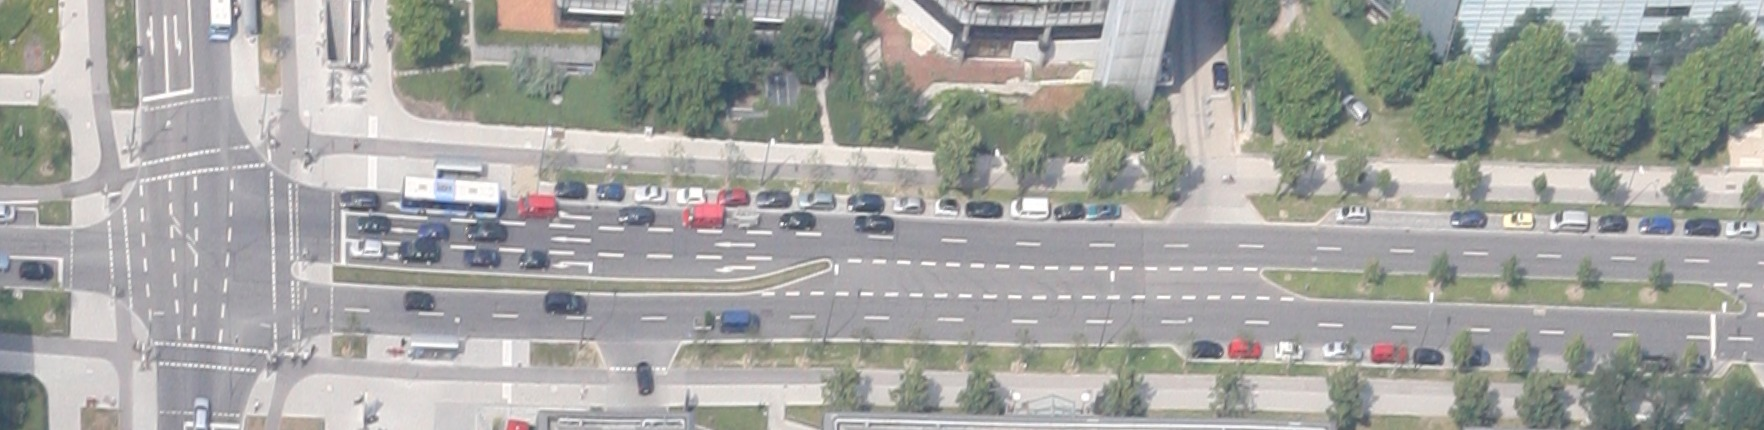car: (1338, 91, 1372, 125), (399, 239, 440, 263), (517, 194, 555, 220), (544, 292, 586, 314), (463, 221, 506, 242), (682, 205, 722, 227), (720, 310, 759, 332), (1009, 196, 1048, 218), (852, 213, 892, 234), (1548, 209, 1586, 231), (339, 188, 378, 208), (349, 236, 382, 260), (1322, 340, 1361, 359), (462, 247, 499, 267), (616, 205, 652, 225), (846, 191, 882, 212), (19, 260, 53, 281), (777, 210, 814, 230), (1371, 343, 1407, 362), (1683, 216, 1718, 235), (1638, 214, 1671, 234), (1334, 204, 1367, 224), (715, 186, 748, 206), (1723, 218, 1757, 238), (799, 190, 832, 209), (1086, 201, 1120, 220), (965, 200, 1001, 217), (1412, 344, 1443, 364), (403, 290, 434, 310), (676, 185, 705, 205), (636, 360, 652, 395), (357, 215, 389, 233), (1501, 210, 1533, 229), (517, 250, 548, 269), (1191, 338, 1222, 357), (418, 221, 447, 241), (1273, 339, 1302, 359), (1450, 210, 1484, 227), (1228, 339, 1260, 357), (553, 180, 585, 198), (596, 181, 623, 201), (1597, 213, 1626, 232), (757, 190, 789, 207), (634, 185, 666, 201), (1210, 61, 1228, 90), (731, 210, 758, 229), (1055, 201, 1082, 220), (193, 396, 208, 429), (893, 196, 922, 212), (934, 196, 957, 215), (691, 313, 714, 331)
